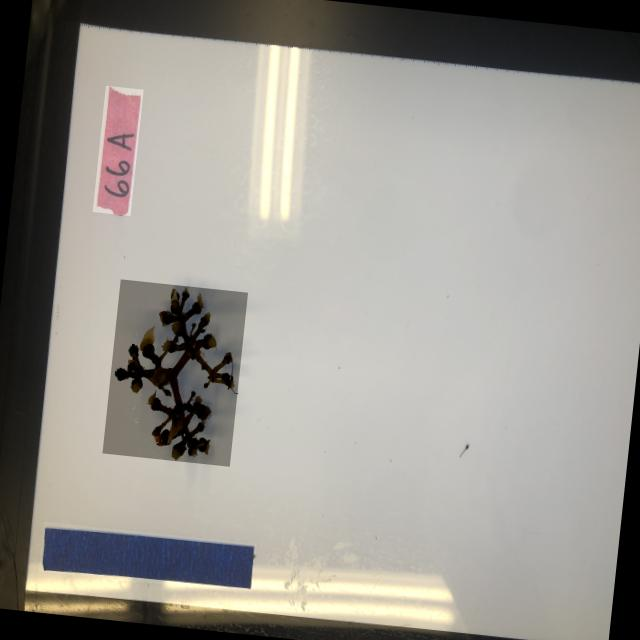index: (92, 84, 143, 214)
measure_label: (39, 520, 257, 592)
rachis_cluster: (102, 278, 248, 465)
